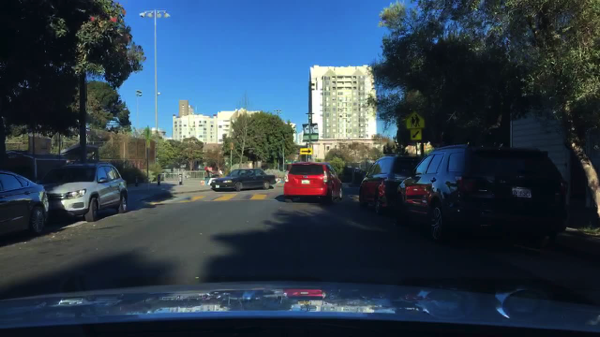car: (396, 141, 569, 248), (37, 163, 129, 222), (357, 155, 428, 218), (1, 169, 49, 241), (282, 162, 343, 204), (209, 167, 276, 191)
traffic sign: (404, 111, 425, 129), (409, 130, 422, 141), (299, 148, 312, 154)
